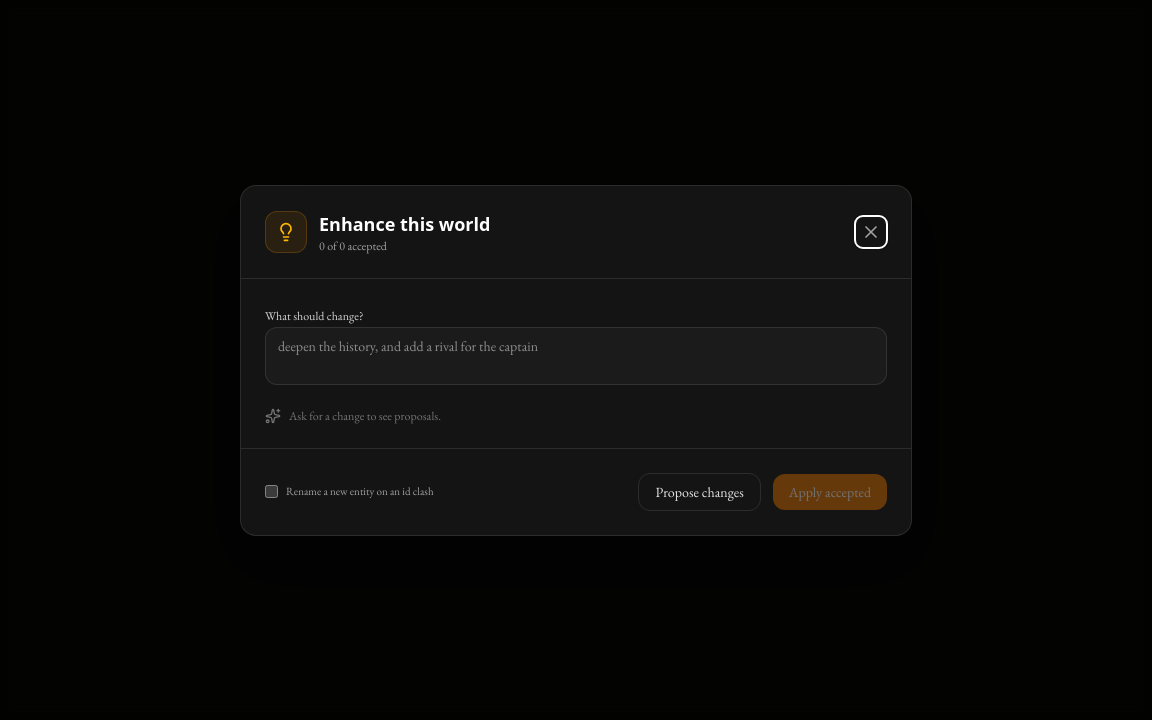
Test: WorldEnhanceDialog › asks for proposals from an instruction
This screenshot has width=1152, height=720.
Type "deepen it" into the text box labelled "What should change?" at (576, 356), box 265,326 -> 887,384
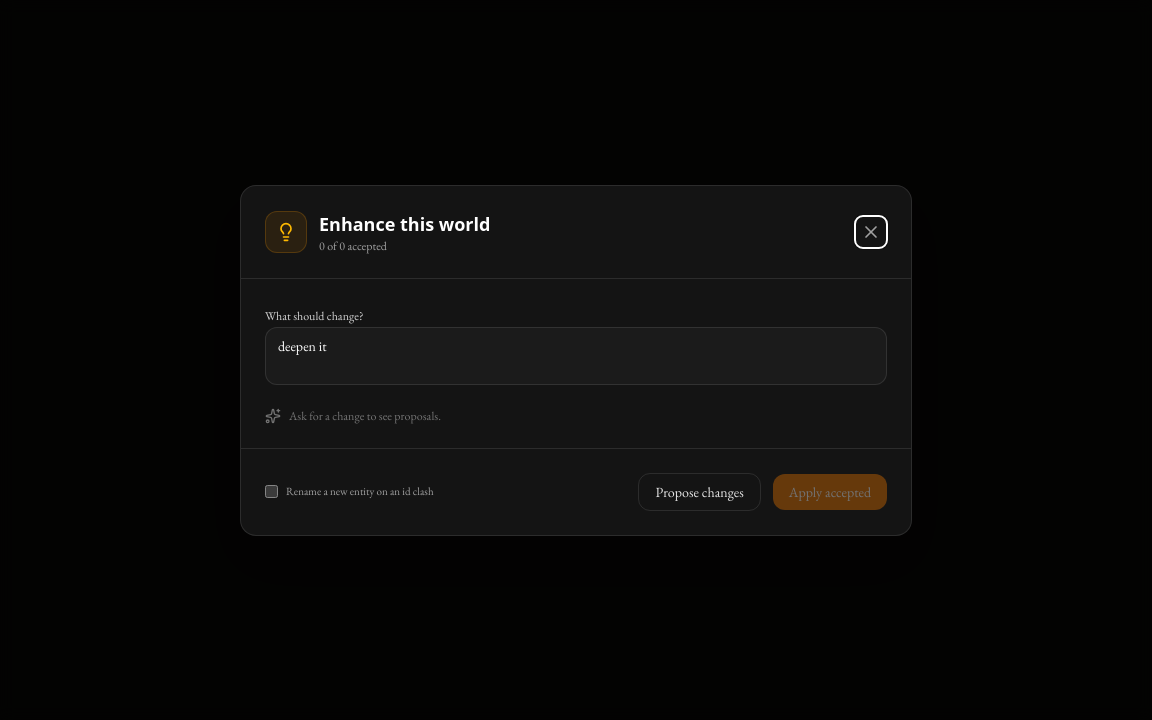
Click the button "Propose changes" at (700, 492), box 638,472 -> 761,510
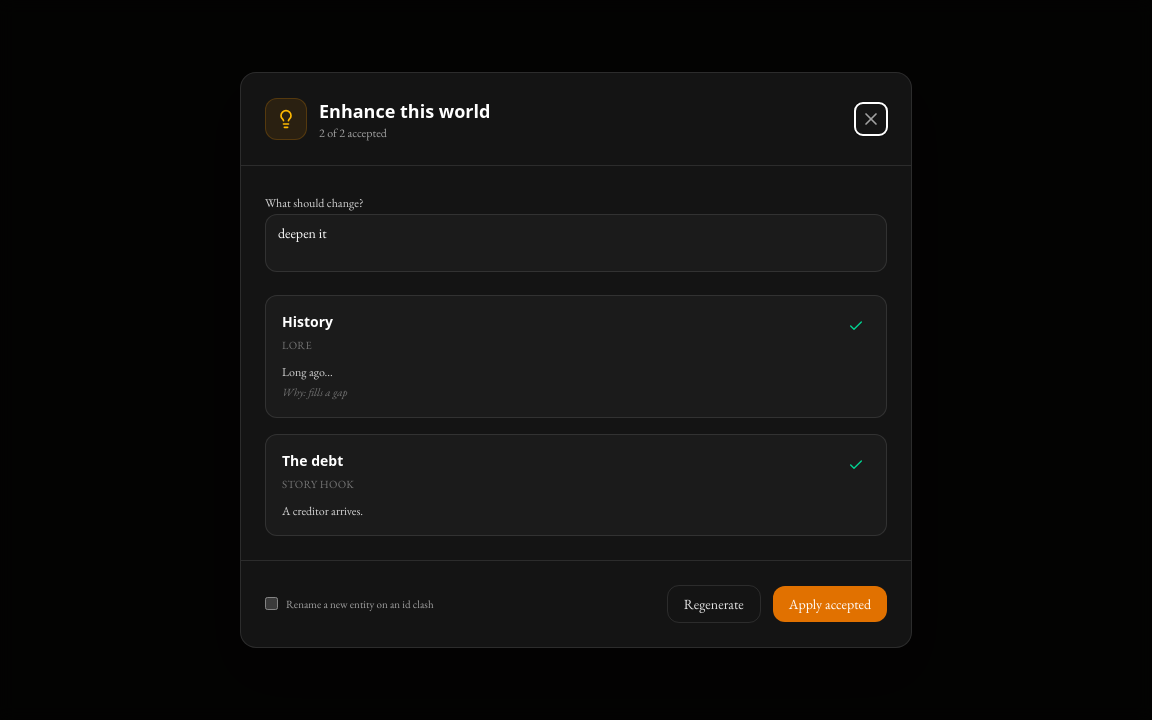
expect the heading "History" is shown: met, box 282,312 -> 333,332
